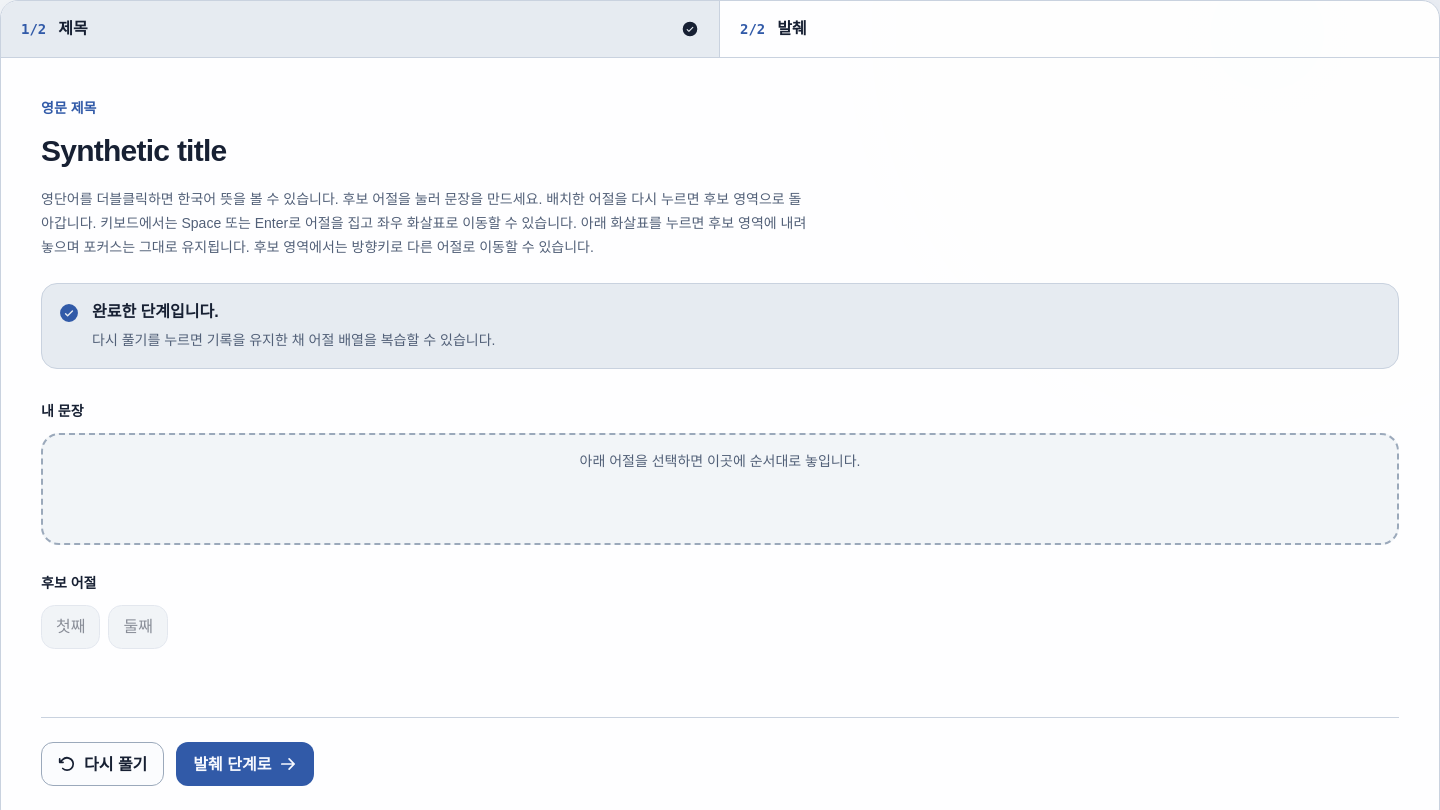
Test: LessonPlayer › lets a learner reopen and replay a completed stage
Expected: the text "완료한 단계입니다." is shown, [92,303,219,320]
Expected: the button with aria-label "첫째 어절을 내 문장으로 이동" is disabled, [41,605,100,649]
Click the button "다시 풀기": (103, 764) [41,742,164,786]
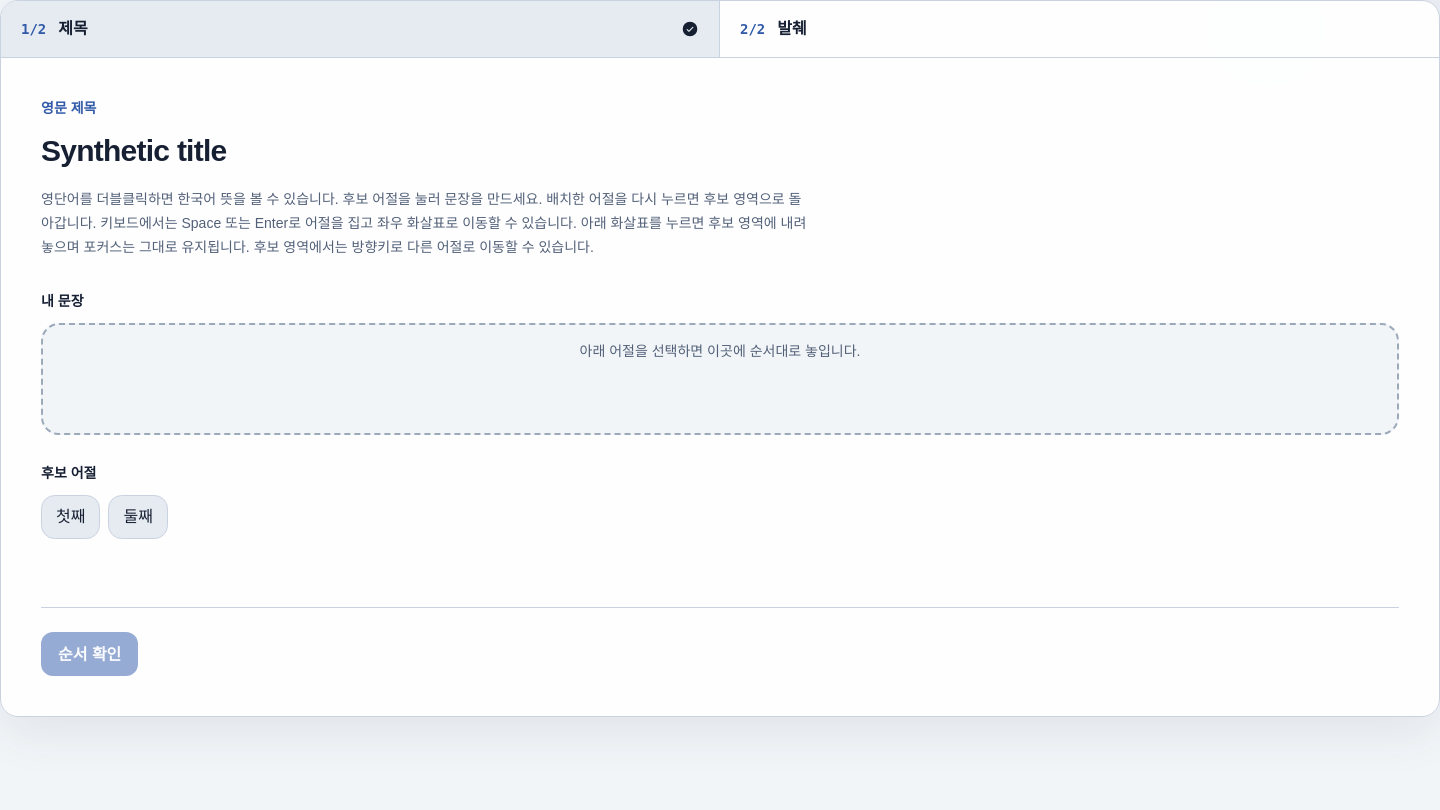
Expected: the text "완료한 단계입니다." is gone
Expected: the button with aria-label "첫째 어절을 내 문장으로 이동" is enabled, [41,495,100,539]
Expected: the button "순서 확인" is disabled, [41,632,138,676]
Click the button "2/2 발췌": (744, 29) [720,1,1439,57]
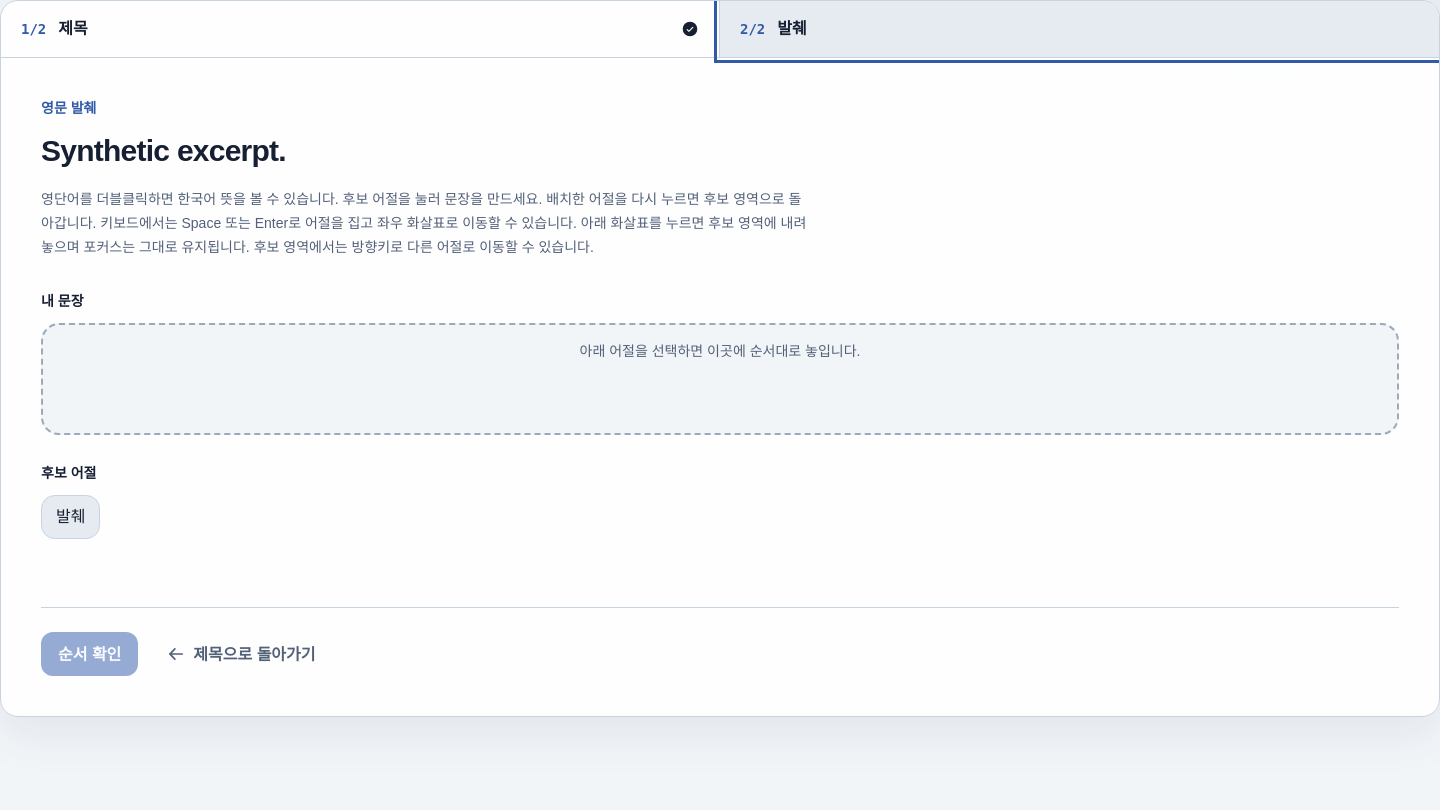
Expected: the text "영문 발췌" is shown, [41,100,96,116]
